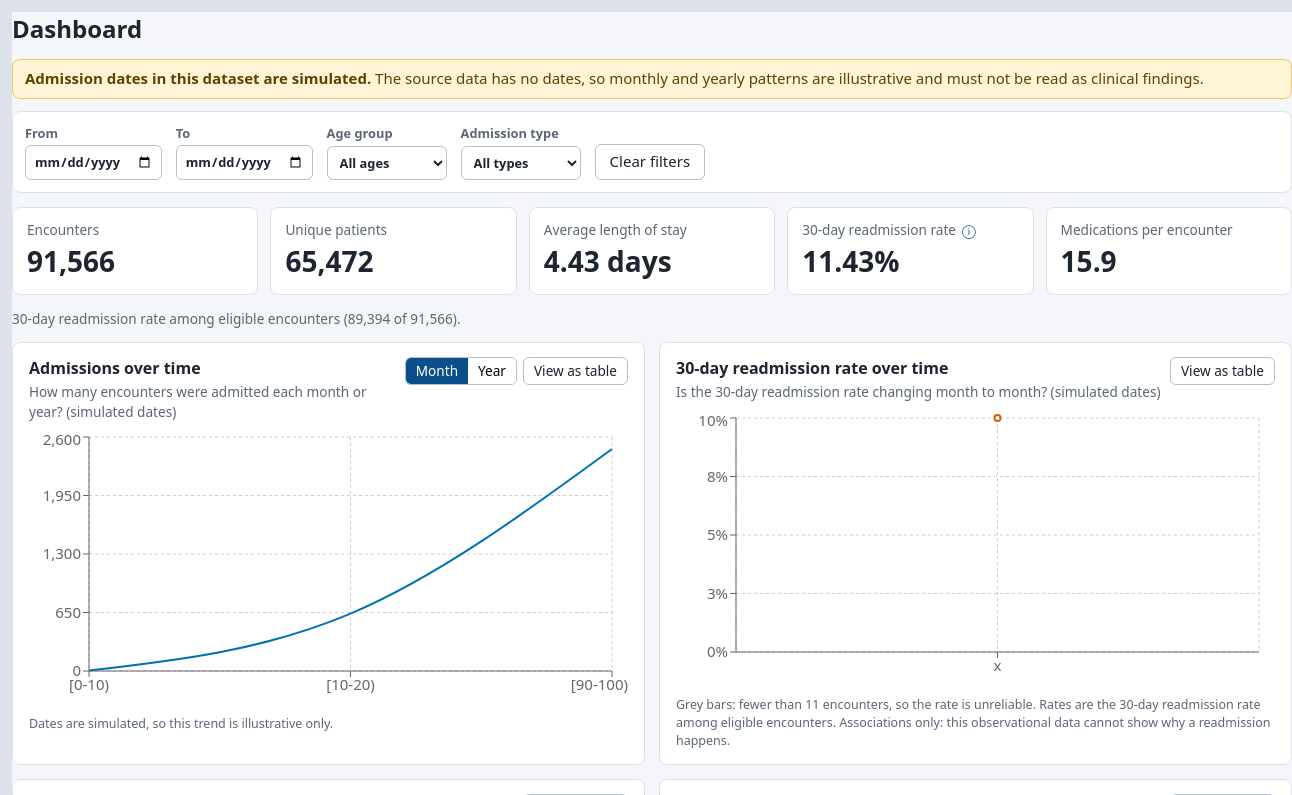
it: Dashboard › warns about an impossible date range instead of silently showing odd data
The width and height of the screenshot is (1292, 795).
Step 1. Type "2008-05-01" into the date field labelled "From" → {"x": 93, "y": 162}, box [25,145,162,180]
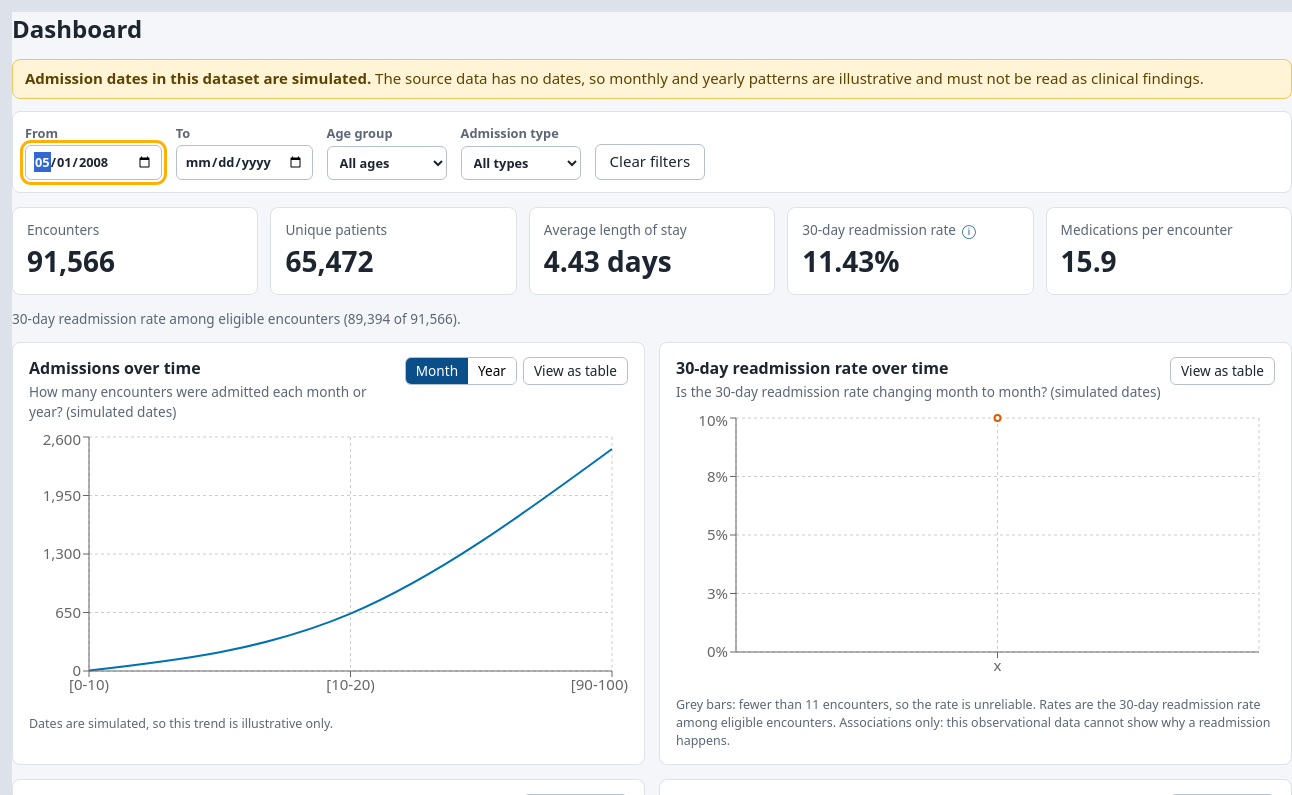
Step 2. Type "2005-01-01" into the date field labelled "To" → {"x": 244, "y": 162}, box [176,145,313,180]
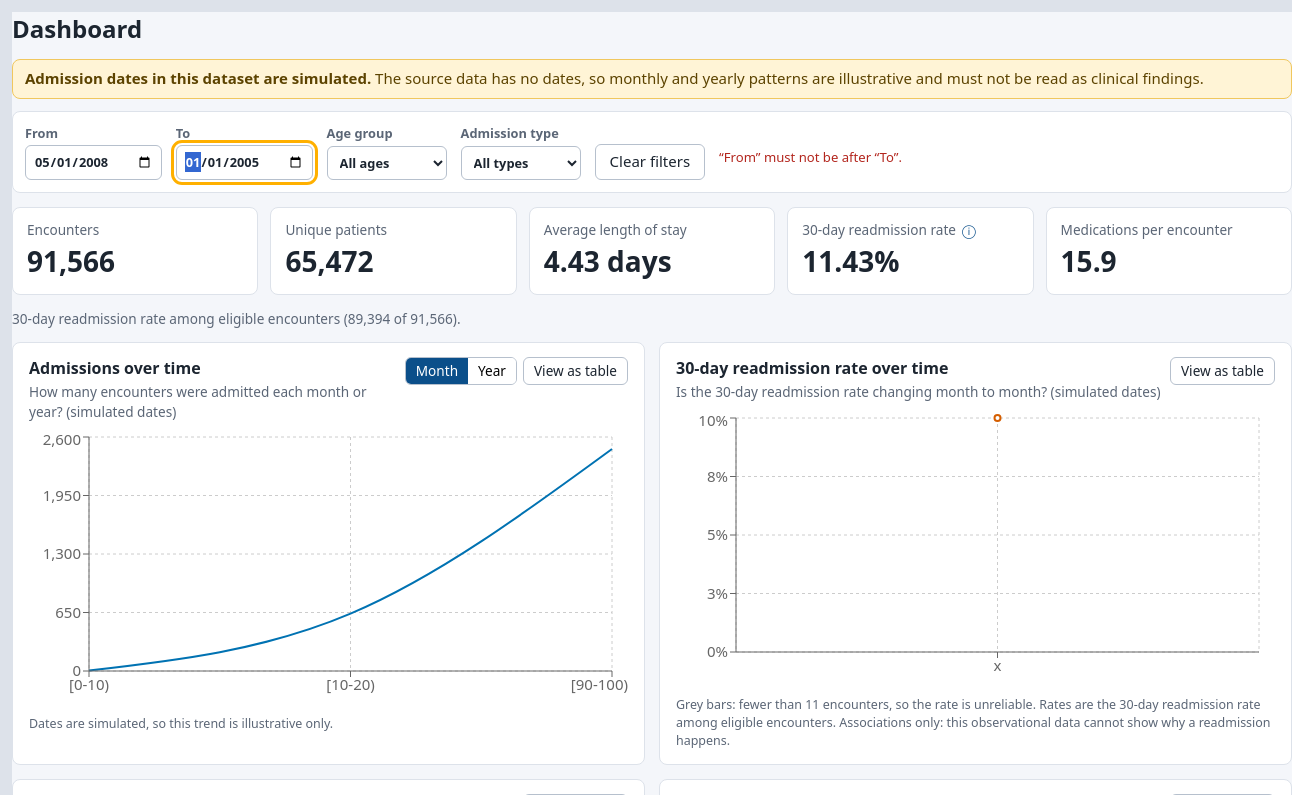
Check: the message shows "must not be after", box [719,148,902,166]
